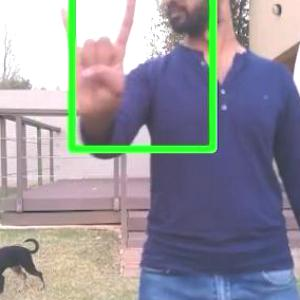takeoff-hand: (53, 0, 142, 123)
